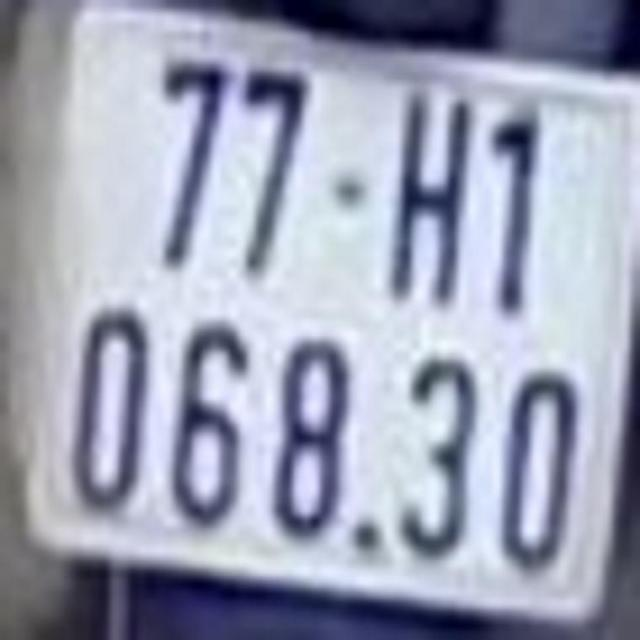0: (506, 369, 578, 569), (75, 307, 145, 503)
1: (494, 116, 536, 327)
3: (405, 362, 469, 553)
6: (177, 320, 247, 531)
7: (244, 68, 312, 286), (160, 61, 228, 266)
8: (277, 335, 348, 544)
H: (400, 88, 467, 310)
